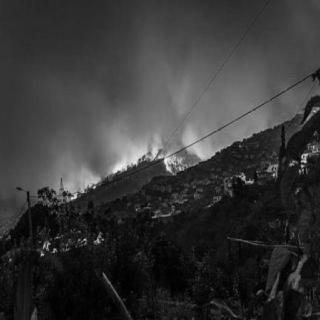Fire: (46, 136, 210, 192)
